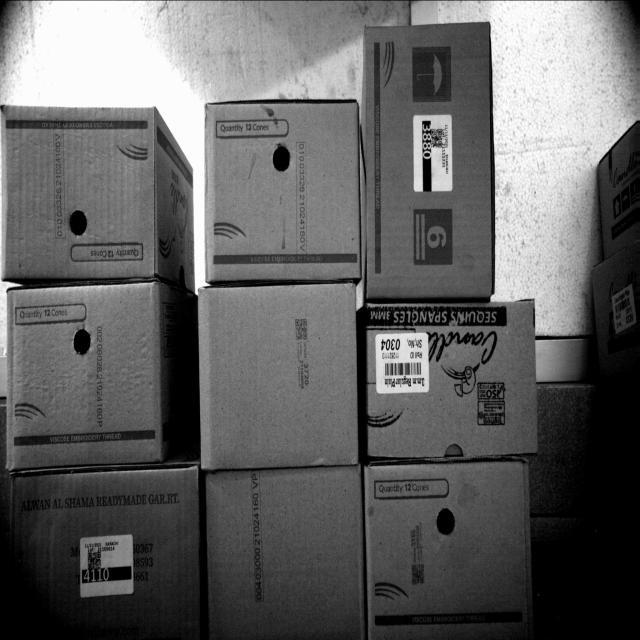box: (361, 20, 493, 298), (5, 464, 206, 639), (362, 460, 536, 639), (5, 283, 164, 468), (195, 284, 358, 464), (204, 97, 360, 280), (363, 296, 538, 456), (4, 100, 158, 276), (209, 466, 365, 639)
